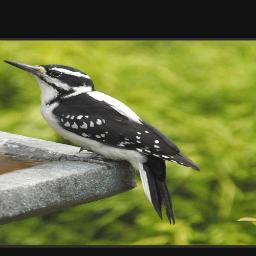Woodpecker: (1, 55, 200, 226)
